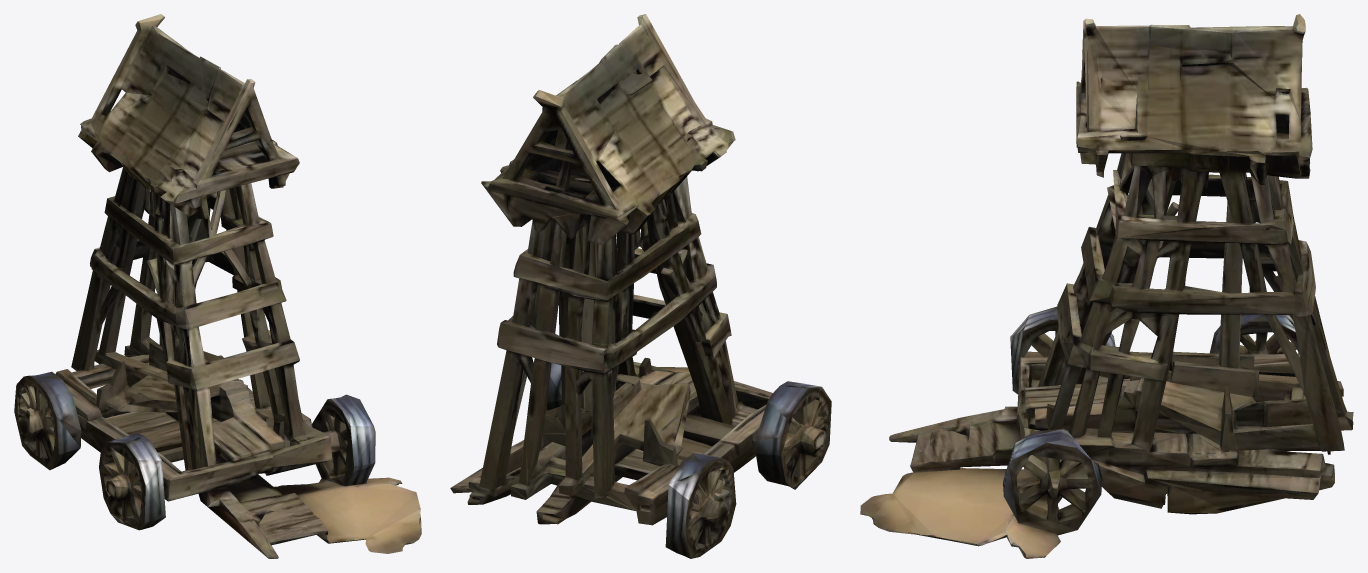
Rendered from war_siege_tower_wreck_01.glb.
3 renders of one model, left to right at view 1: azimuth 30°, elevation 25°; view 2: azimuth 150°, elevation 25°; view 3: azimuth 270°, elevation 25°, orthographic. The views are drawn at different scales.
Parts seen in each view (by area): view 1: geometry_0; view 2: geometry_0; view 3: geometry_0.
Part boxes in pixels (x1,y1,x2,y2): geometry_0: [14, 14, 421, 558]; geometry_0: [450, 14, 831, 558]; geometry_0: [860, 14, 1353, 558].
Size of the model in its own units: 0.6945 by 0.9989 by 0.9478.
Materials: 1 (1 with a texture image).
